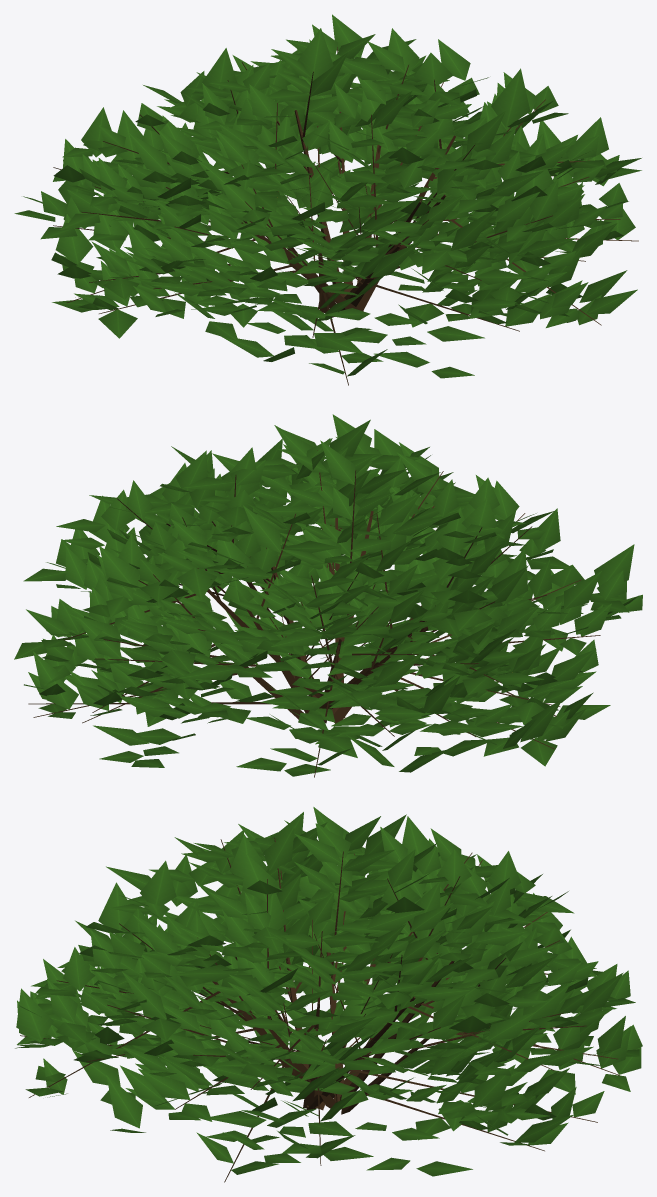
Rendered from Khoi_LOD1.fbx.
3 renders of one model, top to bottom at view 1: azimuth 30°, elevation 25°; view 2: azimuth 150°, elevation 25°; view 3: azimuth 270°, elevation 25°, orthographic. The views are drawn at different scales.
Parts seen in each view (by area): view 1: Leaves_Khoi_LOD1; view 2: Leaves_Khoi_LOD1; view 3: Leaves_Khoi_LOD1.
Part boxes in pixels (x1,y1,x2,y2): Leaves_Khoi_LOD1: [14, 14, 641, 385]; Leaves_Khoi_LOD1: [14, 414, 642, 777]; Leaves_Khoi_LOD1: [15, 807, 642, 1182].
Size of the model in its own units: 168 by 72.53 by 166.
